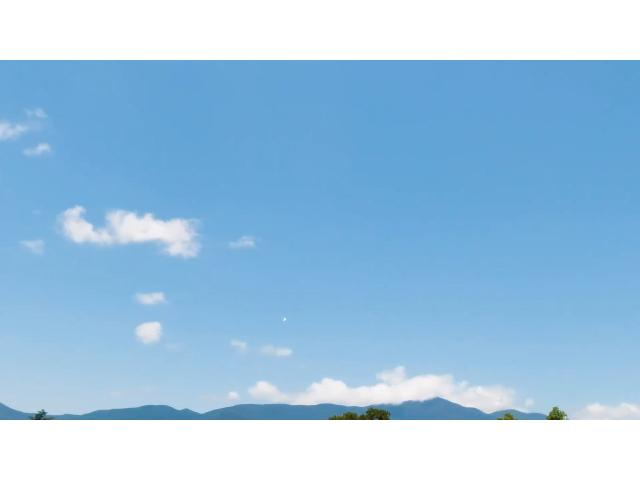Anti-Drone: (278, 316, 290, 328)
